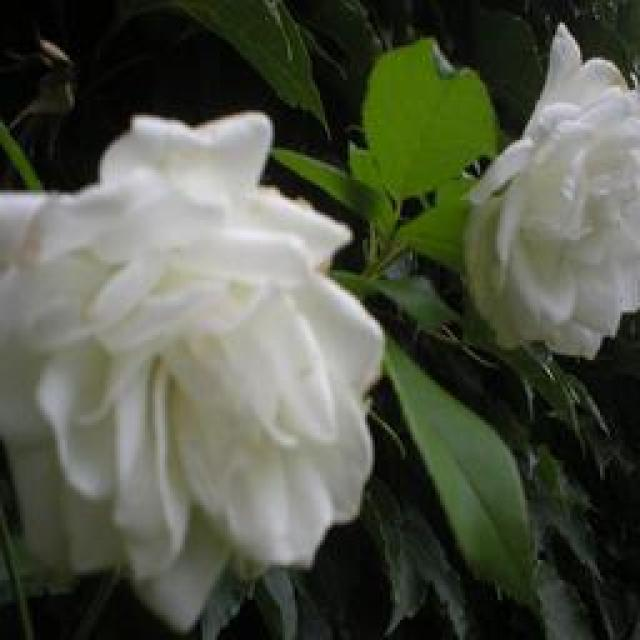rose: (0, 116, 423, 590)
